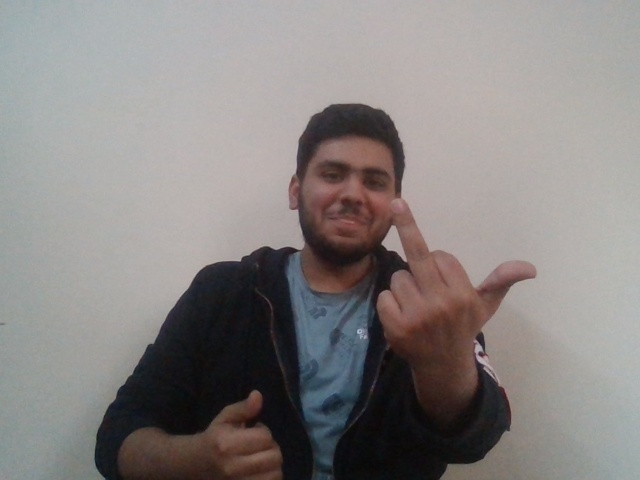Hello: (372, 193, 545, 366)
